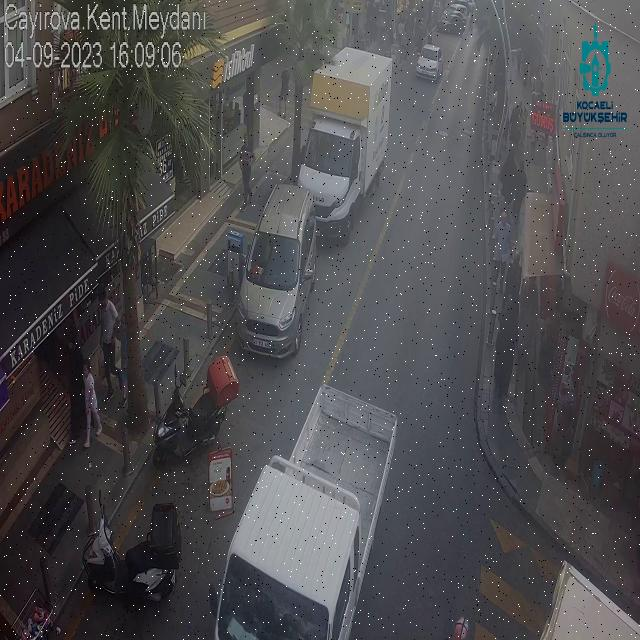car: (416, 42, 444, 84)
motorbike: (80, 490, 183, 607), (156, 355, 233, 463)
